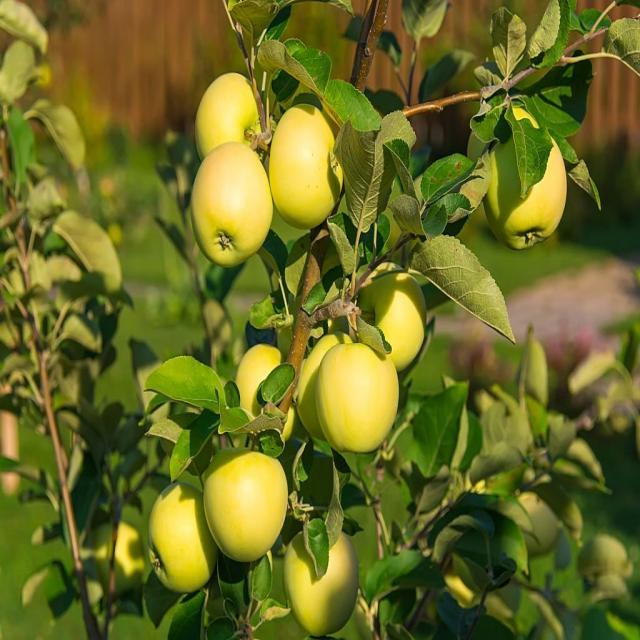Green Apple: (486, 128, 574, 250), (190, 139, 275, 263), (205, 444, 293, 560), (320, 346, 403, 454), (285, 528, 363, 636), (271, 102, 343, 214), (151, 479, 225, 587), (298, 327, 363, 440), (198, 63, 267, 159), (361, 272, 430, 367), (235, 340, 303, 434), (470, 102, 544, 188), (99, 522, 155, 589)
